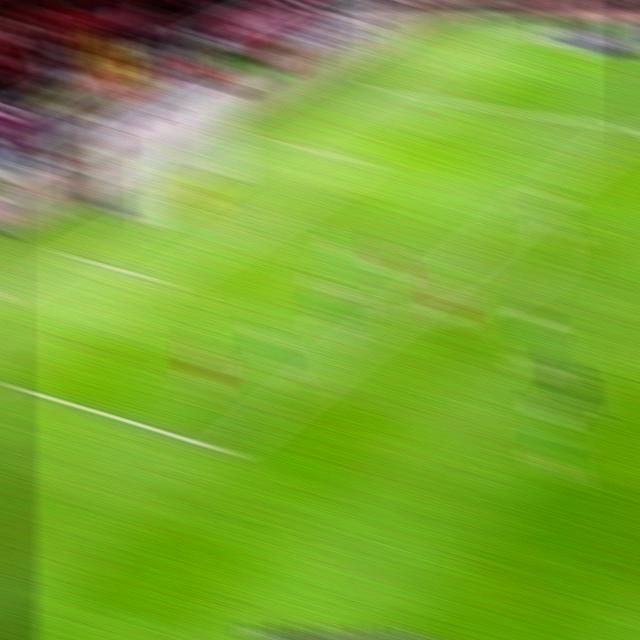bigarea_bottom_inner: (205, 434, 242, 468)
bigarea_top_inner: (614, 116, 640, 139)
bigarea_top_outter: (364, 80, 392, 100)
bottom_arc_area_intersection: (376, 306, 404, 329)
corner: (465, 23, 496, 38)
smallarea_bottom_inner: (150, 265, 184, 294)
smallarea_bottom_outter: (61, 245, 90, 269)
smallarea_top_inner: (346, 151, 375, 171)
smallarea_top_outter: (269, 132, 299, 153)
top_arc_area_intersection: (518, 195, 546, 216)
